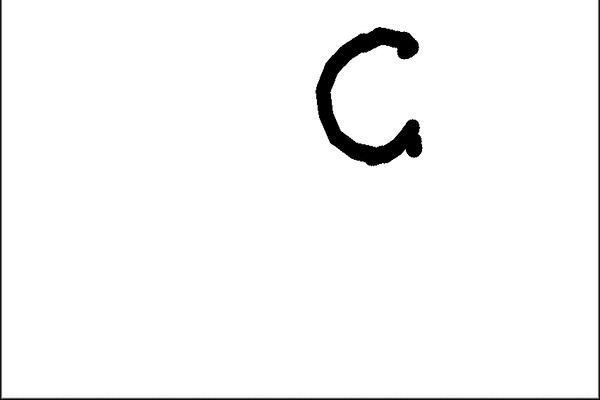C: (310, 19, 434, 172)
